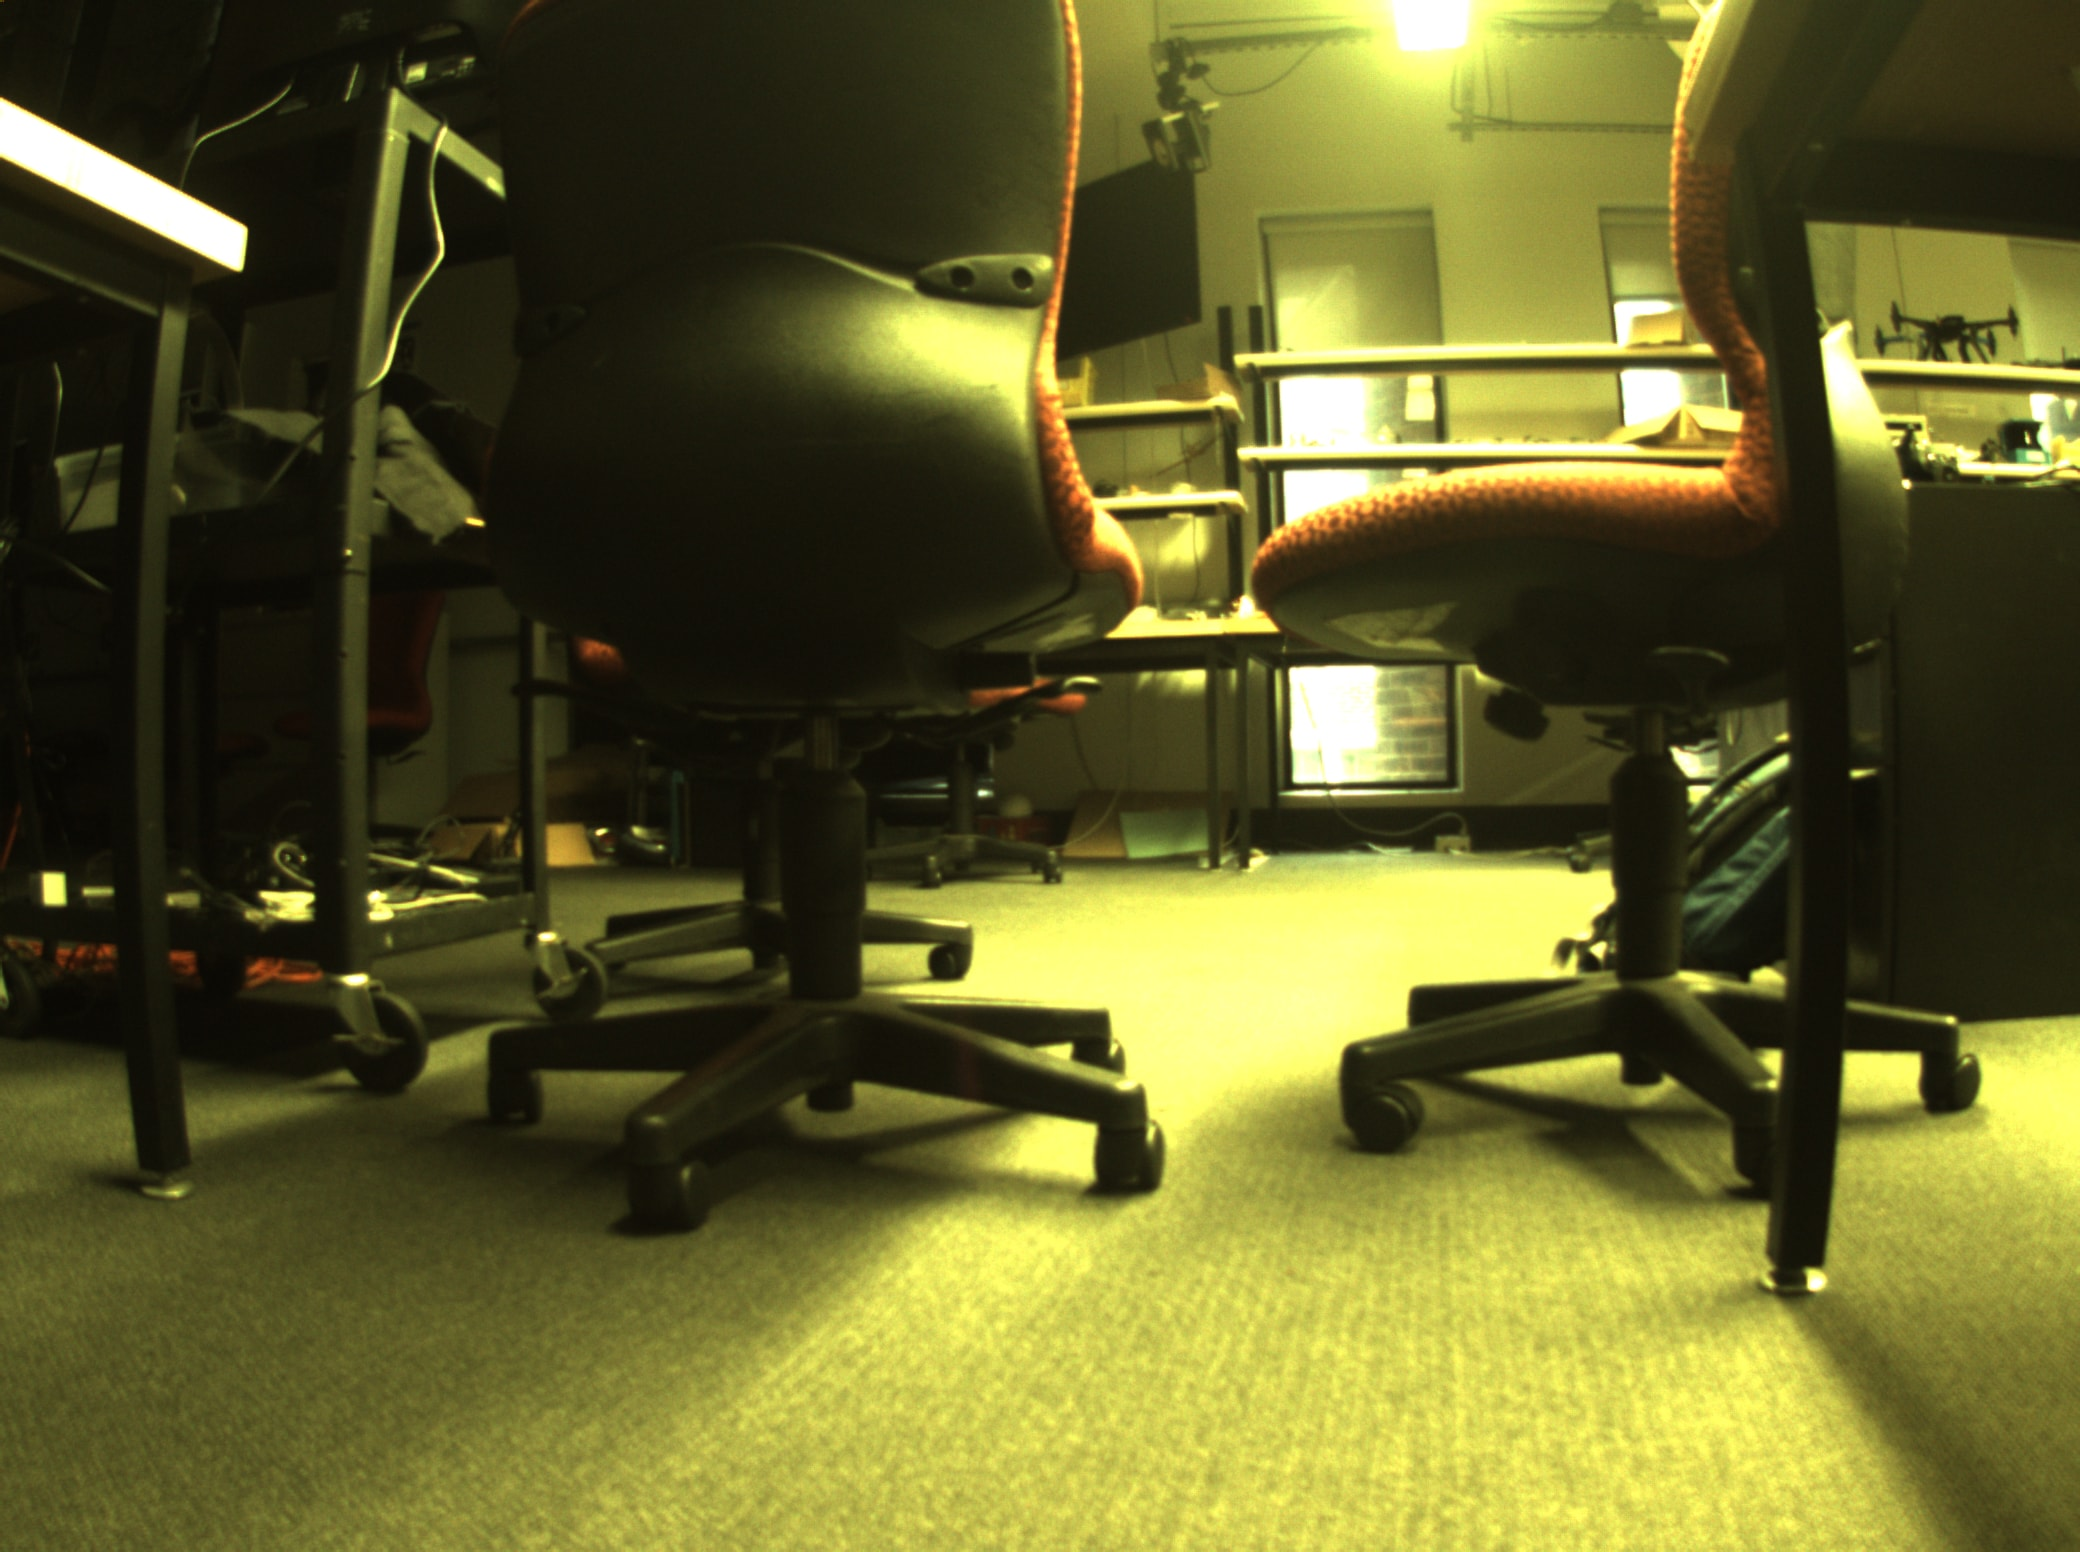chair: (440, 8, 1179, 1273), (1241, 8, 1994, 1211)
